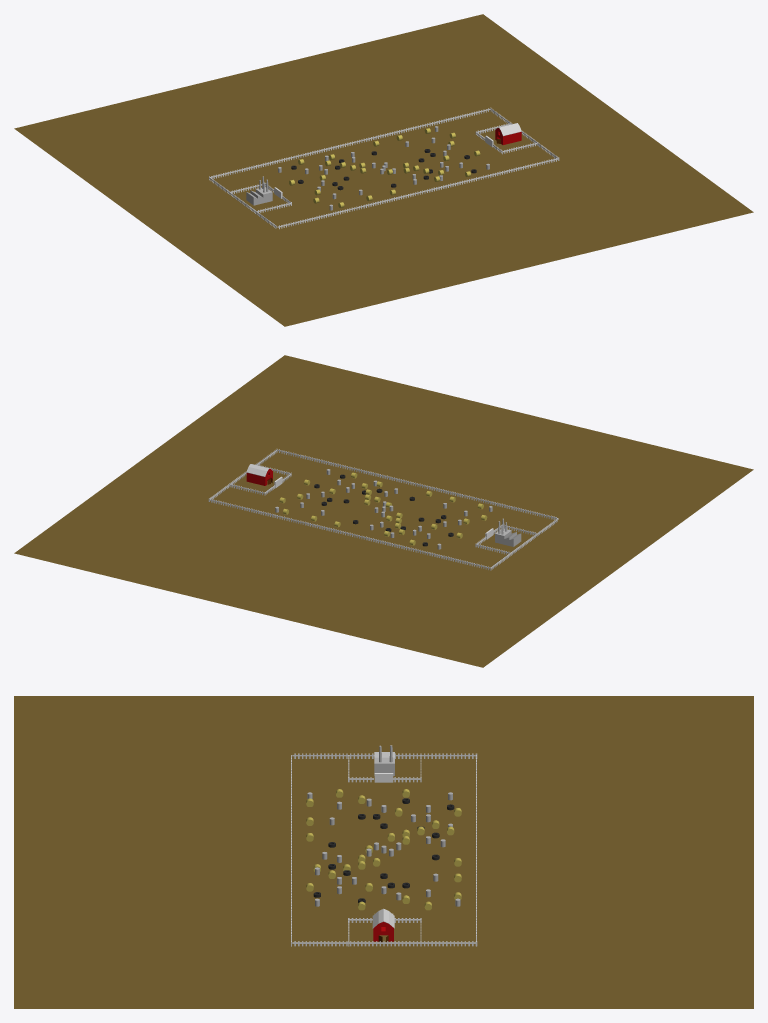
File: Map10.fbx
3 renders of one model, top to bottom at view 1: azimuth 30°, elevation 25°; view 2: azimuth 150°, elevation 25°; view 3: azimuth 270°, elevation 25°, orthographic. The views are drawn at different scales.
Parts seen in each view (by area): view 1: Terrain, Barrieres, Obstacles; view 2: Terrain, Barrieres, Obstacles; view 3: Terrain, Obstacles, Barrieres, Ferme.
Part boxes in pixels (x1,y1,x2,y2): Terrain: (14,14,753,326); Barrieres: (209,107,559,229); Obstacles: (278,126,489,210); Terrain: (14,355,753,667); Barrieres: (208,449,558,570); Obstacles: (275,469,492,549); Terrain: (14,696,753,1008); Obstacles: (306,789,461,910); Barrieres: (291,753,477,946); Ferme: (372,908,394,942).
Bounding box in the file's own units: 200 × 9.78 × 200.
